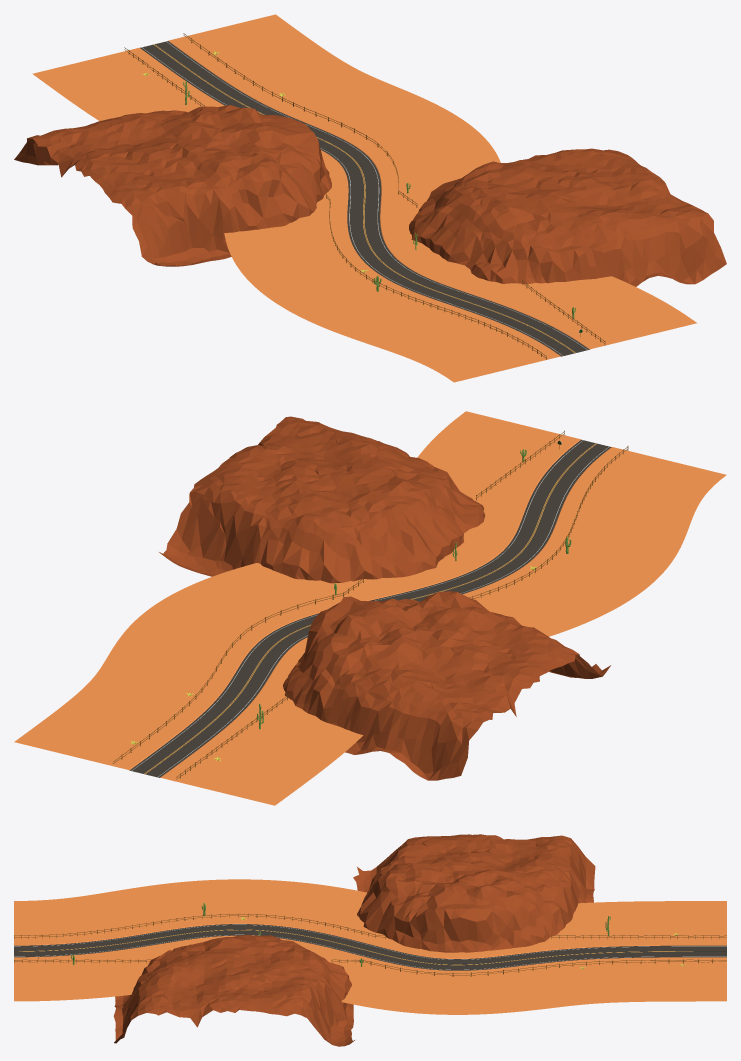
File: DesertRoadStraight2.fbx
3 renders of one model, top to bottom at view 1: azimuth 30°, elevation 25°; view 2: azimuth 150°, elevation 25°; view 3: azimuth 270°, elevation 25°, orthographic. The views are drawn at different scales.
Visible parts, largest first — view 1: DRS2Road, DRS2GiantRock1, DRS2GiantRock2, DRS2WoodFenceRight, DRS2WoodFenceLeft; view 2: DRS2Road, DRS2GiantRock1, DRS2GiantRock2, DRS2WoodFenceRight, DRS2WoodFenceLeft; view 3: DRS2Road, DRS2GiantRock2, DRS2GiantRock1, DRS2WoodFenceLeft, DRS2WoodFenceRight.
Boxes of the visible parts, x1,y1,x2,y2 form: DRS2Road: [32, 14, 697, 382]; DRS2GiantRock1: [409, 148, 726, 286]; DRS2GiantRock2: [14, 105, 331, 266]; DRS2WoodFenceRight: [183, 33, 605, 345]; DRS2WoodFenceLeft: [124, 47, 546, 359]; DRS2Road: [14, 411, 726, 805]; DRS2GiantRock1: [159, 416, 485, 583]; DRS2GiantRock2: [283, 591, 610, 780]; DRS2WoodFenceRight: [113, 430, 564, 763]; DRS2WoodFenceLeft: [176, 446, 628, 779]; DRS2Road: [14, 879, 726, 1014]; DRS2GiantRock2: [353, 834, 595, 952]; DRS2GiantRock1: [113, 935, 354, 1046]; DRS2WoodFenceLeft: [14, 913, 726, 938]; DRS2WoodFenceRight: [14, 959, 726, 976].
Size of what is drawn, in the model's own units: 21446 by 3623 by 36001.
